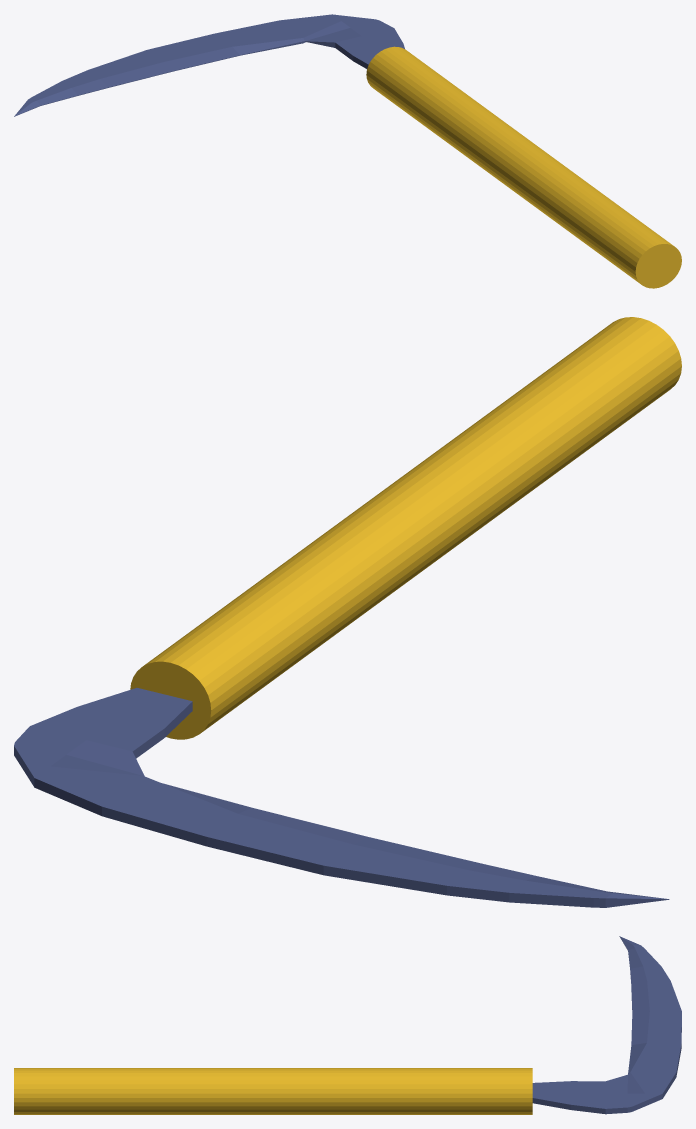
File: 조선낫.fbx
3 renders of one model, top to bottom at view 1: azimuth 30°, elevation 25°; view 2: azimuth 150°, elevation 25°; view 3: azimuth 270°, elevation 25°, orthographic. The views are drawn at different scales.
Parts seen in each view (by area): view 1: 실린더, 칼날; view 2: 실린더, 칼날; view 3: 실린더, 칼날.
Part boxes in pixels (x1=…): 실린더: x1=366, y1=46, x2=681, y2=288; 칼날: x1=14, y1=14, x2=404, y2=116; 실린더: x1=130, y1=317, x2=681, y2=739; 칼날: x1=14, y1=688, x2=669, y2=907; 실린더: x1=14, y1=1068, x2=532, y2=1114; 칼날: x1=532, y1=936, x2=681, y2=1114.
Bounding box in the file's own units: 284 × 31.5 × 457.
